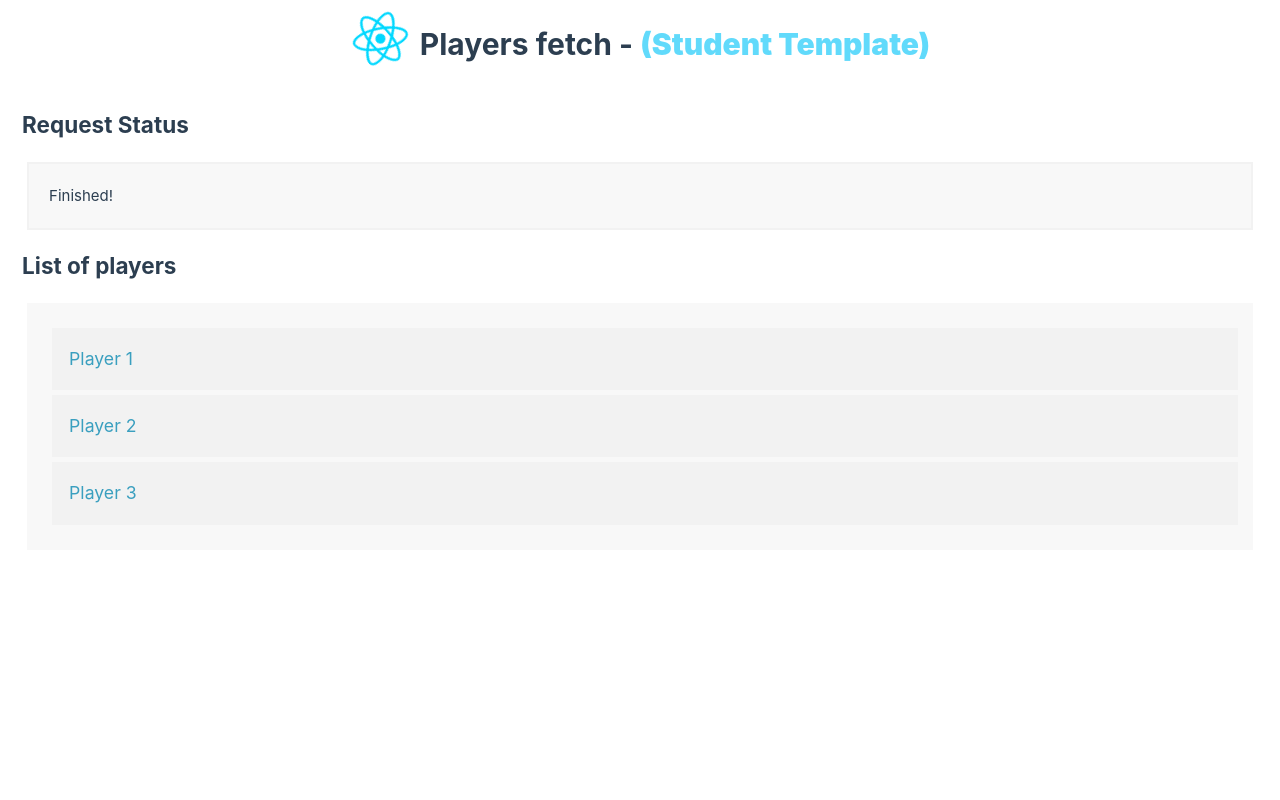
Test: Requests: GET › should show player status when player link is clicked
expect the text "Finished!" is shown: met, box [27,162,1253,230]
Click the link "Player 2" at (103, 426), box [52,395,1238,457]
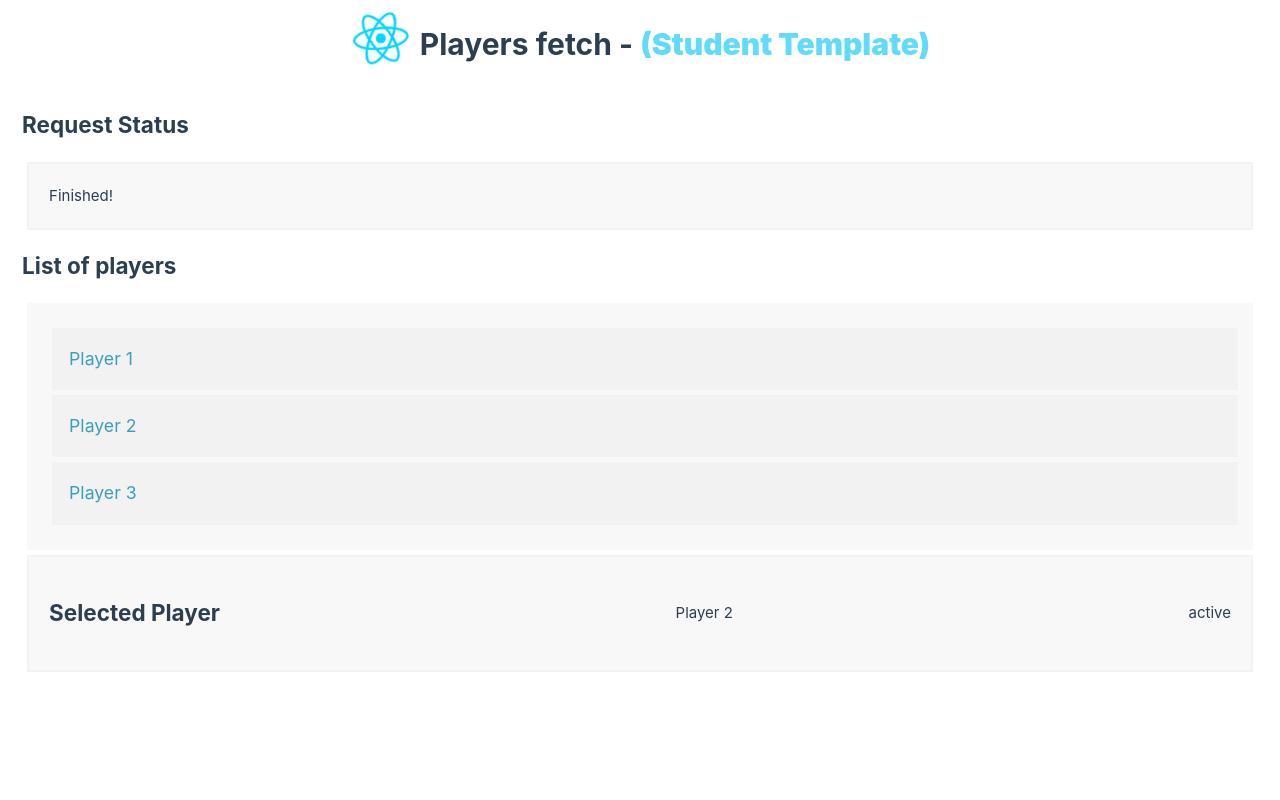
expect the text "Finished!" is shown: met, box [27,162,1253,230]
expect the text "Player 2" is shown: met, box [676,601,733,625]
expect the text "active" is shown: met, box [1188,601,1231,625]
